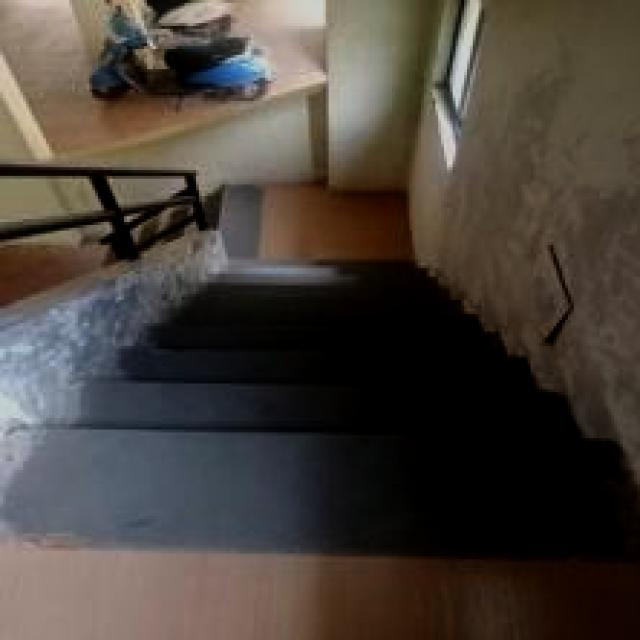downstair: (93, 301, 497, 505)
